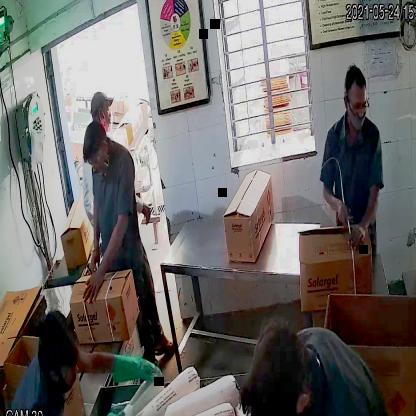goggles: (342, 92, 374, 118)
